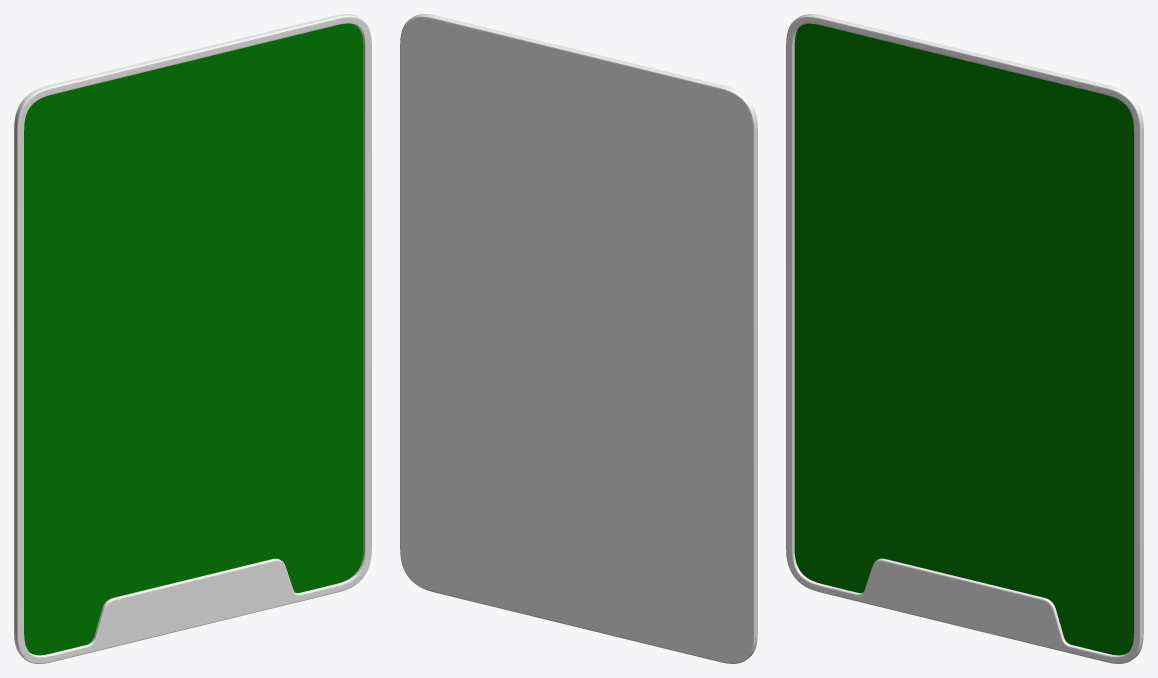
Rendered from Card.glb.
3 views of the same model, side by side, from view 1: azimuth 30°, elevation 25°; view 2: azimuth 150°, elevation 25°; view 3: azimuth 330°, elevation 25° (orthographic).
Parts seen in each view (by area): view 1: Frame, Card; view 2: Card; view 3: Frame, Card.
Part boxes in pixels (left/top/right/bottom): Frame: left=24, top=23, right=363, bottom=655; Card: left=14, top=14, right=371, bottom=663; Card: left=400, top=14, right=757, bottom=663; Frame: left=794, top=23, right=1133, bottom=655; Card: left=786, top=14, right=1143, bottom=663.
Size of the model in its own units: 0.084 by 0.13 by 0.0015.
